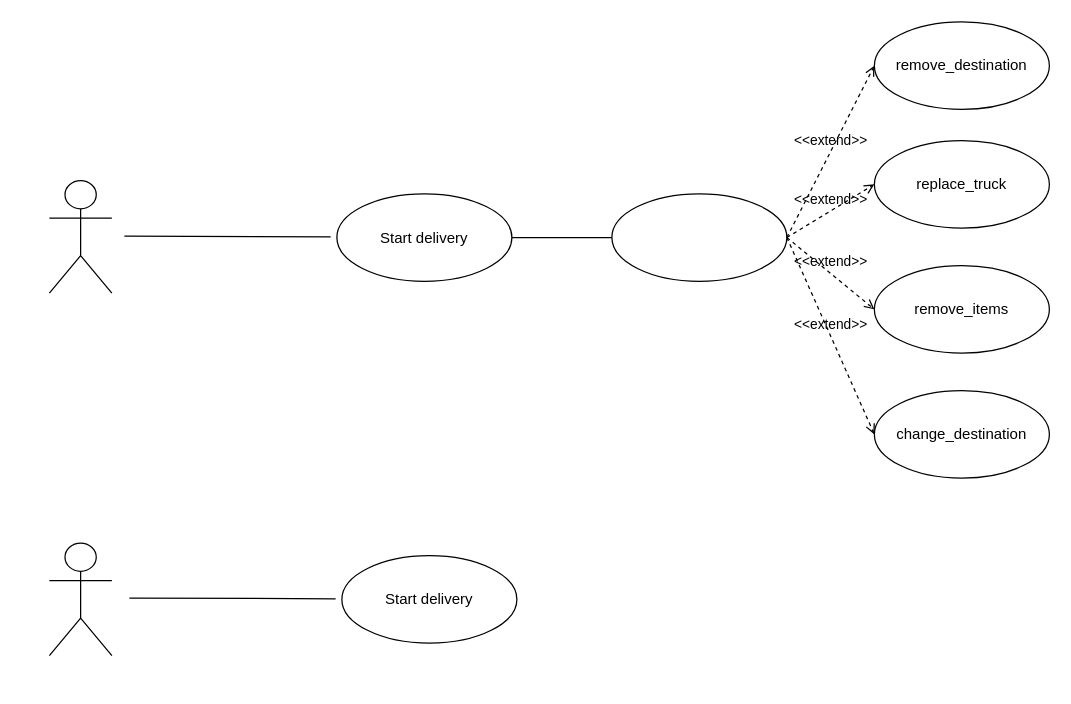
This 1071x704 diagram has some shape labels left out. The centre of each missing label's shape, as x and y in pixels:
Checking Overweight - Delivery Errors: pixel 699 236
Delivery Manager: pixel 80 236
Driver: pixel 80 599
